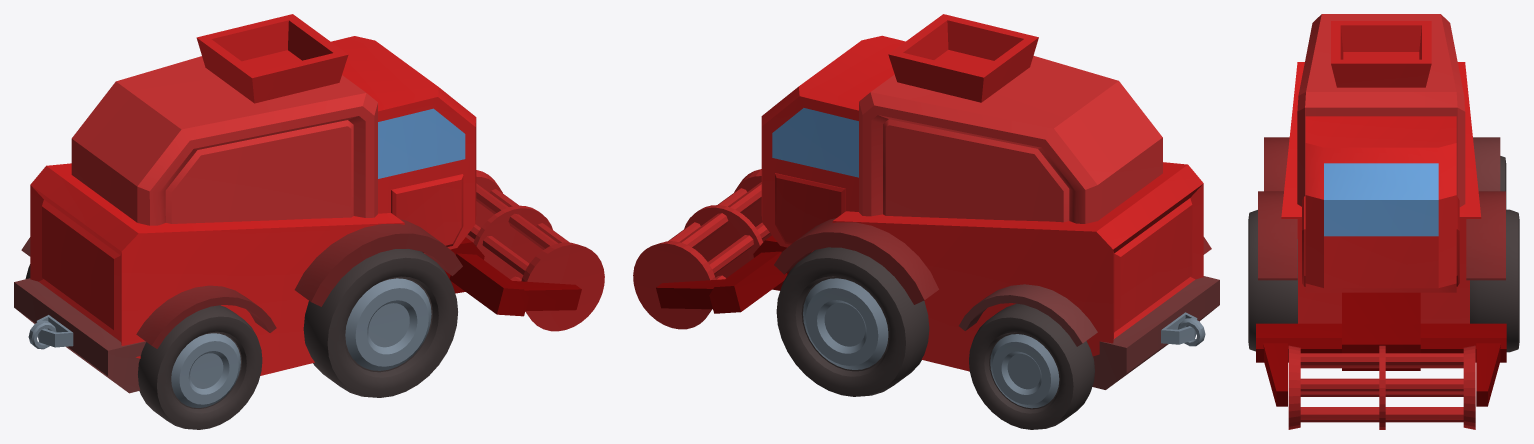
File: harvester.fbx
The picture shows the model from 3 angles, left to right: view 1: azimuth 30°, elevation 25°; view 2: azimuth 150°, elevation 25°; view 3: azimuth 270°, elevation 25°; orthographic projection. The views are drawn at different scales.
Visible parts, largest first — view 1: harvester, harvester_wheel_right_forward, harvester_wheel_right_back, Cylinder.004; view 2: harvester, harvester_wheel_left_forward, harvester_wheel_left_back, Cylinder.004; view 3: harvester, Cylinder.004, harvester_wheel_left_forward, harvester_wheel_right_forward.
Part boxes in pixels (<box>): harvester: <box>14,14,581,393</box>; harvester_wheel_right_forward: <box>303,249,457,397</box>; harvester_wheel_right_back: <box>138,305,262,429</box>; Cylinder.004: <box>466,170,604,331</box>; harvester: <box>656,14,1219,389</box>; harvester_wheel_left_forward: <box>776,247,929,396</box>; harvester_wheel_left_back: <box>969,303,1094,429</box>; Cylinder.004: <box>633,169,771,329</box>; harvester: <box>1256,14,1506,406</box>; Cylinder.004: <box>1288,345,1475,429</box>; harvester_wheel_left_forward: <box>1470,209,1519,352</box>; harvester_wheel_right_forward: <box>1248,210,1297,351</box>.
Bounding box in the file's own units: 561 × 319 × 278.
